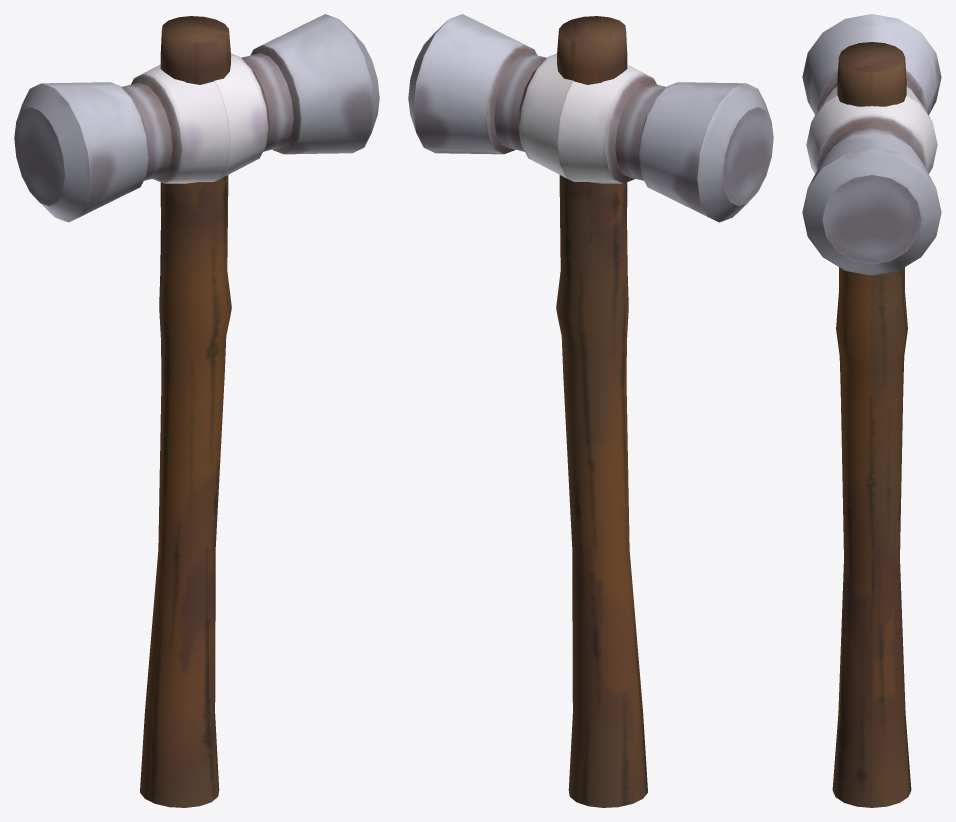
File: Hammer_Small_Bronze.fbx
The picture shows the model from 3 angles, left to right: view 1: azimuth 30°, elevation 25°; view 2: azimuth 150°, elevation 25°; view 3: azimuth 270°, elevation 25°; orthographic projection. The views are drawn at different scales.
Visible parts, largest first — view 1: Hammer_Small_Bronze; view 2: Hammer_Small_Bronze; view 3: Hammer_Small_Bronze.
Boxes of the visible parts, x1=… form: Hammer_Small_Bronze: x1=14, y1=14, x2=379, y2=807; Hammer_Small_Bronze: x1=408, y1=14, x2=773, y2=807; Hammer_Small_Bronze: x1=802, y1=14, x2=941, y2=807.
Size of the model in its own units: 15.19 by 35.06 by 5.96.
